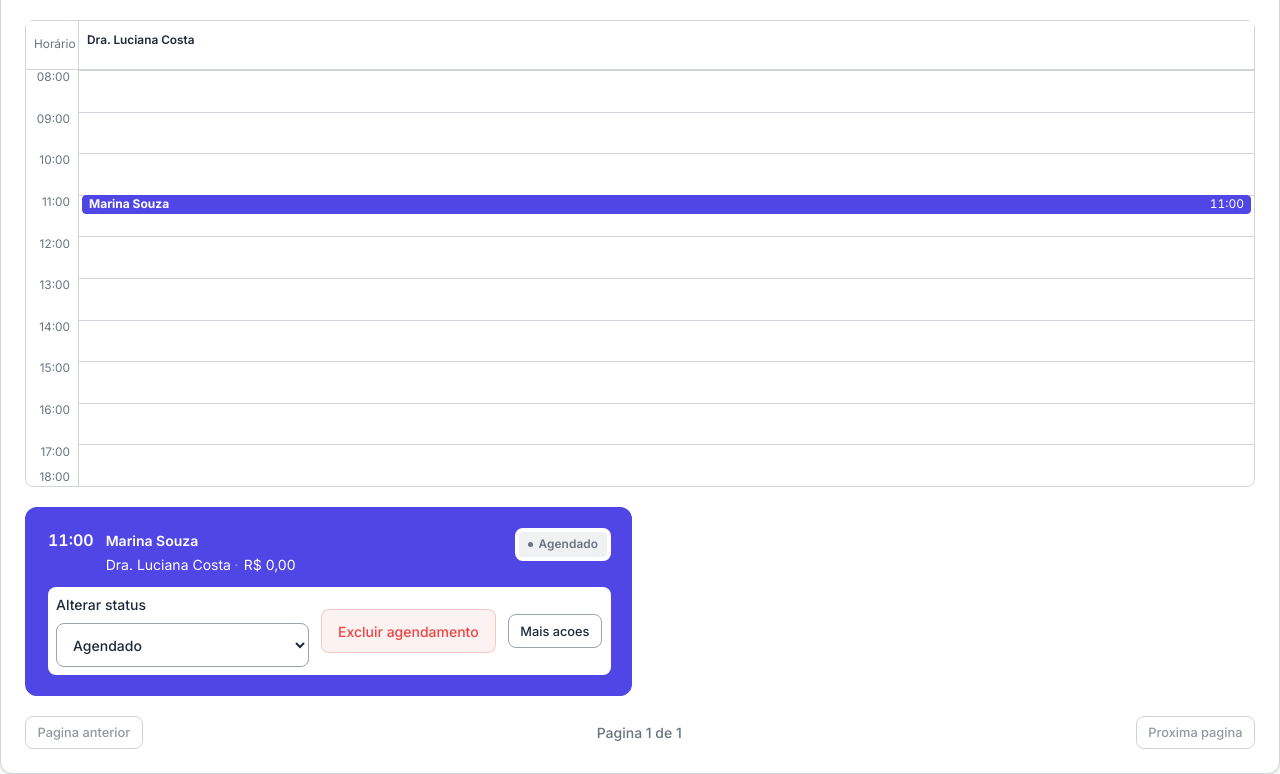
Test: AppointmentBoard › requires confirmation before deleting and allows keeping the appointment
(page scrolled)
Click the button "Excluir agendamento": click(408, 631) left=321, top=609, right=496, bottom=653
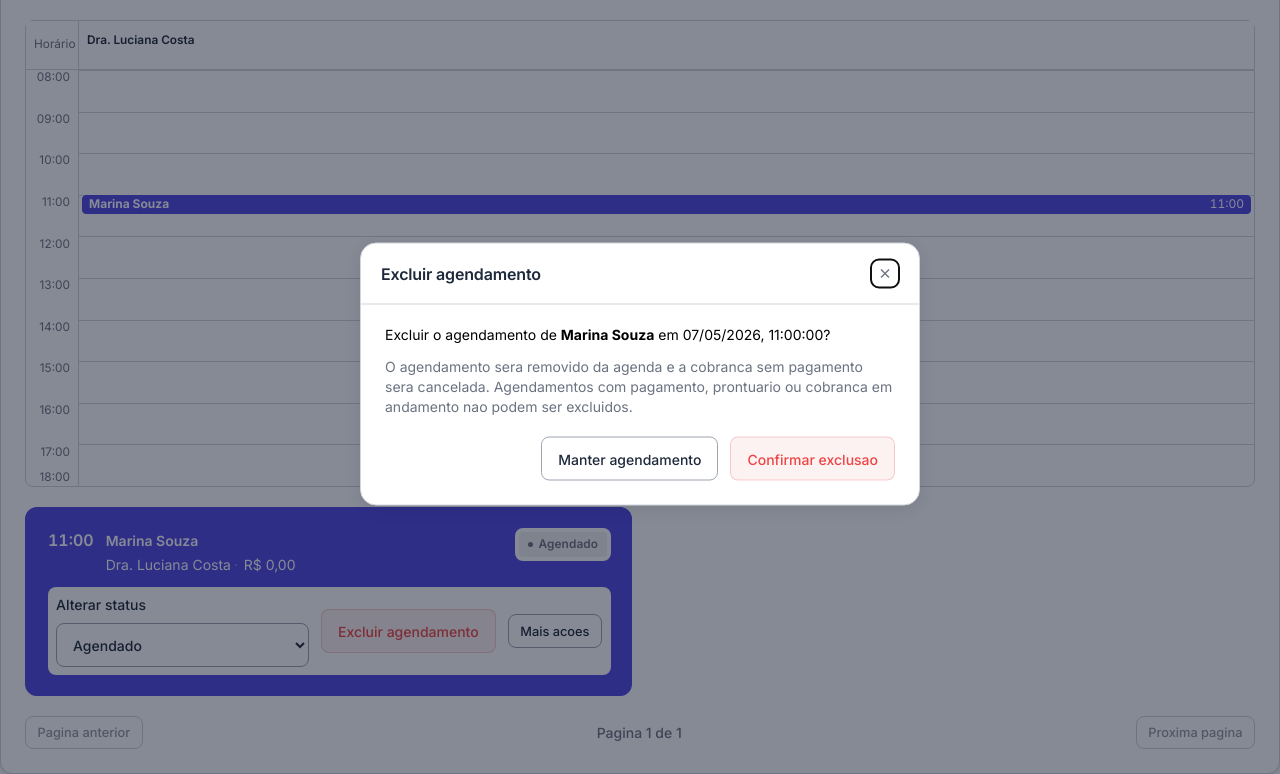
Expected: the heading "Excluir agendamento" is shown, left=381, top=262, right=541, bottom=286
Click the button "Manter agendamento": click(630, 458) left=541, top=436, right=718, bottom=480
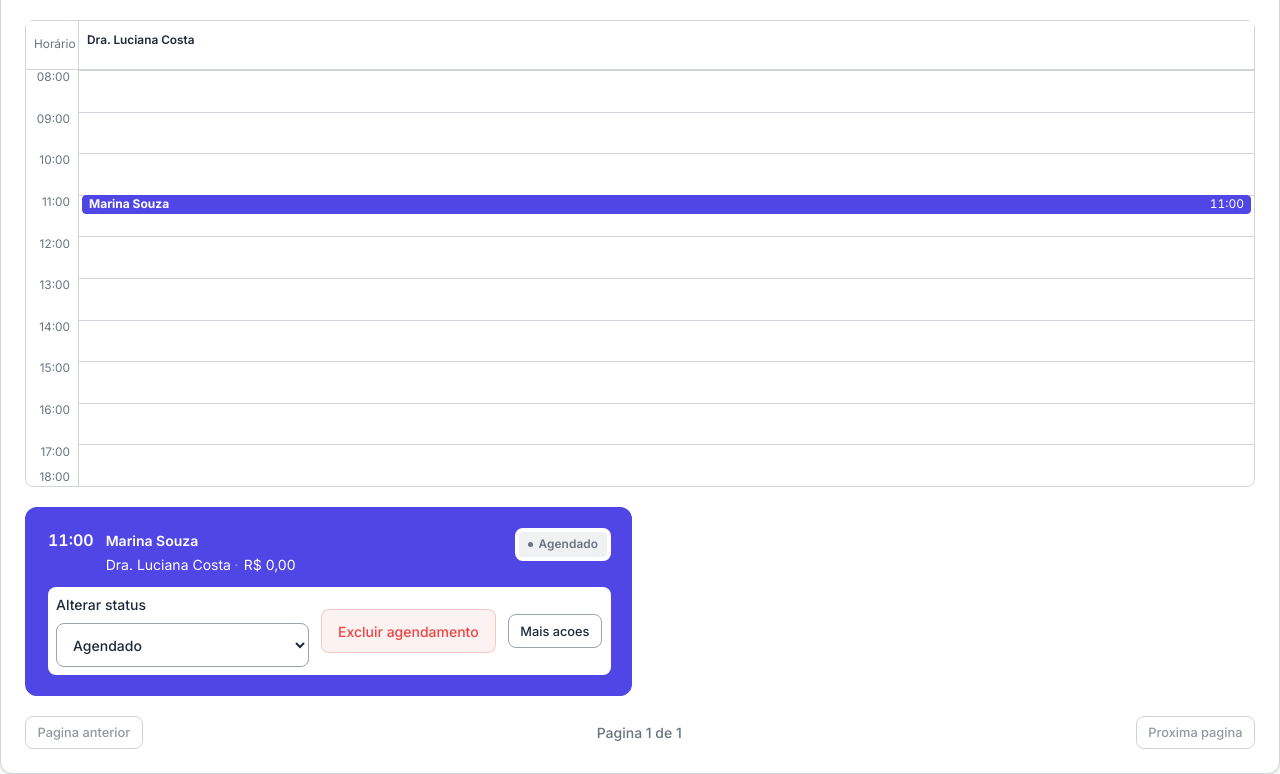
Click the button "Excluir agendamento": click(408, 631) left=321, top=609, right=496, bottom=653
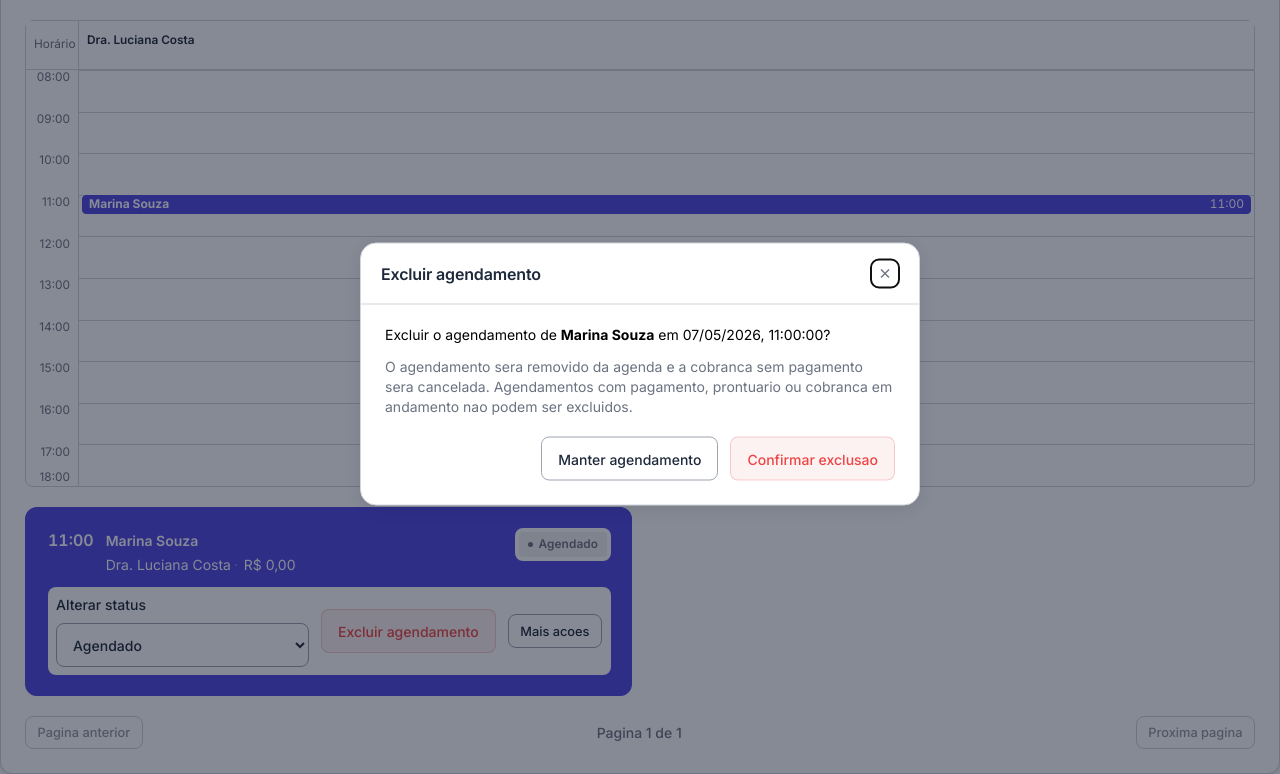
Click the button "Confirmar exclusao": click(813, 458) left=730, top=436, right=895, bottom=480
(page scrolled)
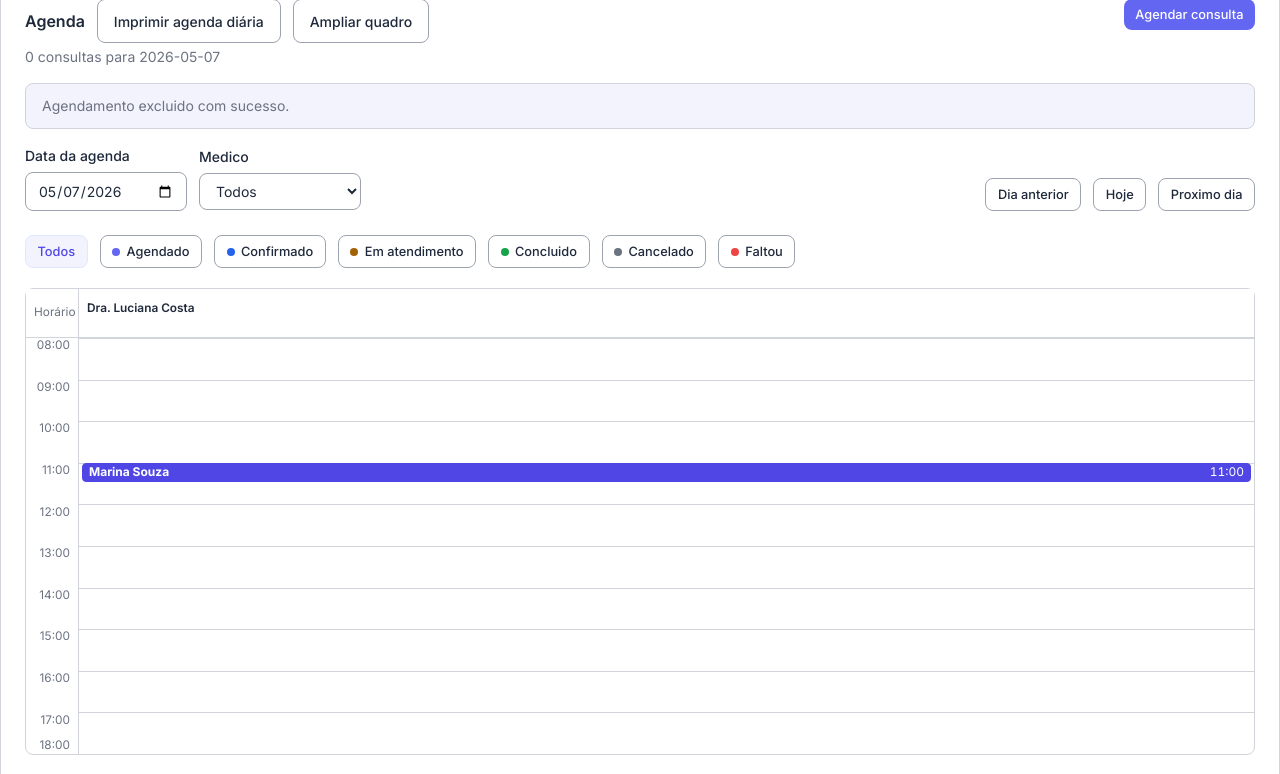
Expected: the text "Agendamento excluido com sucesso." is shown, left=25, top=83, right=1255, bottom=129
